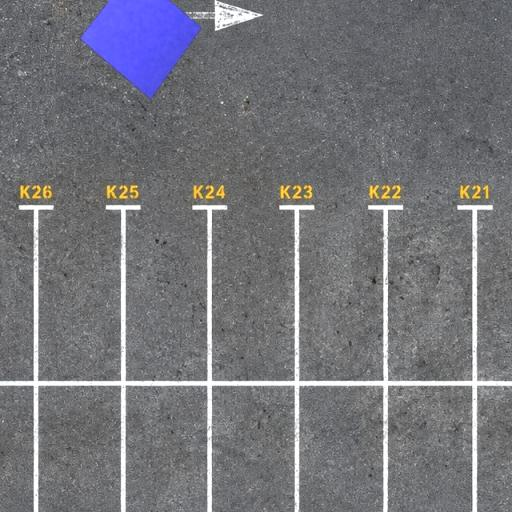BLUE_SQUARE: (80, 0, 202, 100)
